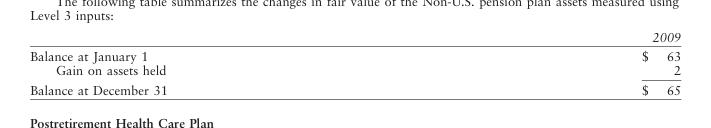table: (29, 28, 680, 96)
table column: (29, 28, 403, 96), (403, 28, 680, 96)
table column header: (29, 28, 680, 45)
table row: (29, 28, 680, 45), (29, 45, 680, 62), (29, 62, 680, 79), (29, 79, 680, 96)
